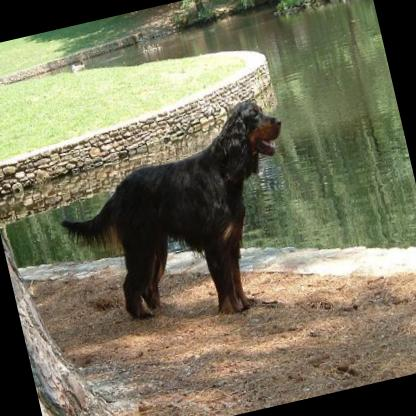Gordon_setter: (41, 91, 321, 347)
